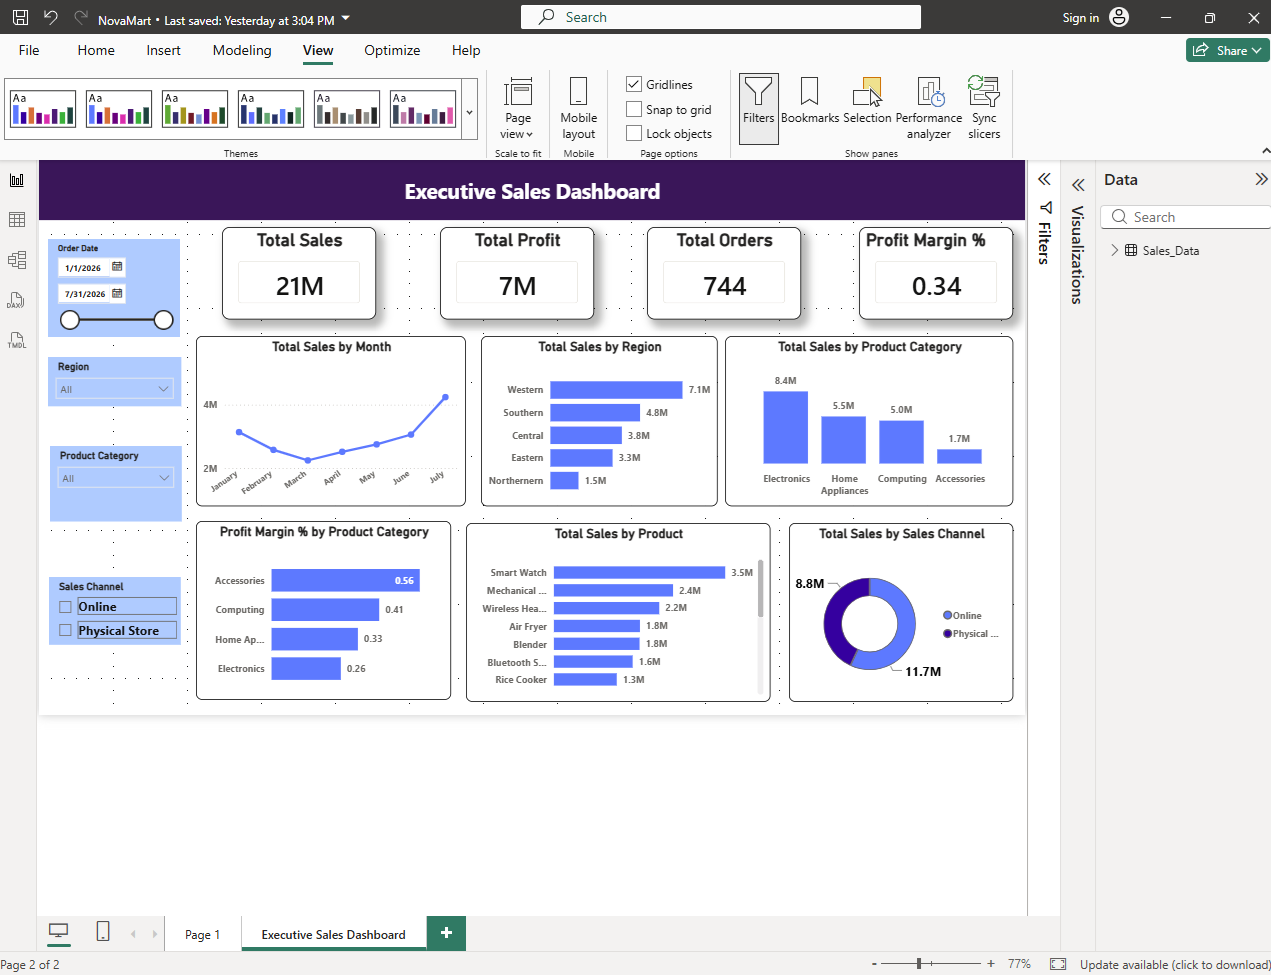

The dashboard page shown, as its layout file describes it:
{"tool":"powerbi","page":{"name":"Executive Sales Dashboard","canvas":[1280,720],"ordinal":1},"visuals":[{"type":"cardVisual","title":"Total Sales","fields":{"Data":["Sales_Data.Total Sales"]},"box":[236.8,86.4,200,120],"z":0},{"type":"cardVisual","title":"Total Profit","fields":{"Data":["Sales_Data.Total Profit"]},"box":[520,86.4,200,120],"z":1000},{"type":"cardVisual","title":"Total Orders","fields":{"Data":["Sales_Data.Total Orders"]},"box":[788.8,86.4,200,120],"z":2000},{"type":"cardVisual","title":"Profit Margin %","fields":{"Data":["Sales_Data.Profit Margin %"]},"box":[1064,86.4,200,120],"z":3000},{"type":"lineChart","fields":{"Y":["Sales_Data.Total Sales"],"Category":["Sales_Data.Order Date.Variation.Date Hierarchy.Month"]},"box":[203.2,228.8,350.4,220.8],"z":4000},{"type":"clusteredBarChart","fields":{"Y":["Sales_Data.Total Sales"],"Category":["Sales_Data.Region"]},"box":[572.8,228.8,307.2,220.8],"z":5000},{"type":"clusteredColumnChart","fields":{"Category":["Sales_Data.Product Category"],"Y":["Sales_Data.Total Sales"]},"box":[889.6,228.8,374.4,220.8],"z":6000},{"type":"clusteredBarChart","fields":{"Category":["Sales_Data.Product Category"],"Y":["Sales_Data.Profit Margin %"]},"box":[203.2,468.8,331.2,232],"z":7000},{"type":"clusteredBarChart","fields":{"Category":["Sales_Data.Product"],"Y":["Sales_Data.Total Sales"]},"box":[553.6,470.4,395.2,232],"z":8000},{"type":"donutChart","fields":{"Y":["Sales_Data.Total Sales"],"Category":["Sales_Data.Sales Channel"]},"box":[972.8,470.4,291.2,232],"z":9000},{"type":"textbox","box":[0,0,1280,78.4],"z":10000},{"type":"slicer","fields":{"Values":["Sales_Data.Order Date"]},"box":[11.2,102.4,171.2,126.4],"z":11000},{"type":"slicer","fields":{"Values":["Sales_Data.Region"]},"box":[11.2,256,172.8,64],"z":12000},{"type":"slicer","fields":{"Values":["Sales_Data.Product Category"]},"box":[14.4,371.2,171.2,97.6],"z":13000},{"type":"slicer","fields":{"Values":["Sales_Data.Sales Channel"]},"box":[12.8,540.8,171.2,88],"z":14000}]}

Visuals, with their boxes on the page's 1280x720 design canvas (x1, y1, x2, y2). These are canvas units, not pixel positions in the 1271x975 screenshot, which may show the page scaled, cropped or inside an application window:
"Total Sales" cardVisual: region(237, 86, 437, 206)
"Total Profit" cardVisual: region(520, 86, 720, 206)
"Total Orders" cardVisual: region(789, 86, 989, 206)
"Profit Margin %" cardVisual: region(1064, 86, 1264, 206)
lineChart - Sales_Data.Total Sales x Sales_Data.Order Date.Variation.Date Hierarchy.Month: region(203, 229, 554, 450)
clusteredBarChart - Sales_Data.Total Sales x Sales_Data.Region: region(573, 229, 880, 450)
clusteredColumnChart - Sales_Data.Product Category x Sales_Data.Total Sales: region(890, 229, 1264, 450)
clusteredBarChart - Sales_Data.Product Category x Sales_Data.Profit Margin %: region(203, 469, 534, 701)
clusteredBarChart - Sales_Data.Product x Sales_Data.Total Sales: region(554, 470, 949, 702)
donutChart - Sales_Data.Total Sales x Sales_Data.Sales Channel: region(973, 470, 1264, 702)
textbox: region(0, 0, 1280, 78)
slicer - Sales_Data.Order Date: region(11, 102, 182, 229)
slicer - Sales_Data.Region: region(11, 256, 184, 320)
slicer - Sales_Data.Product Category: region(14, 371, 186, 469)
slicer - Sales_Data.Sales Channel: region(13, 541, 184, 629)
